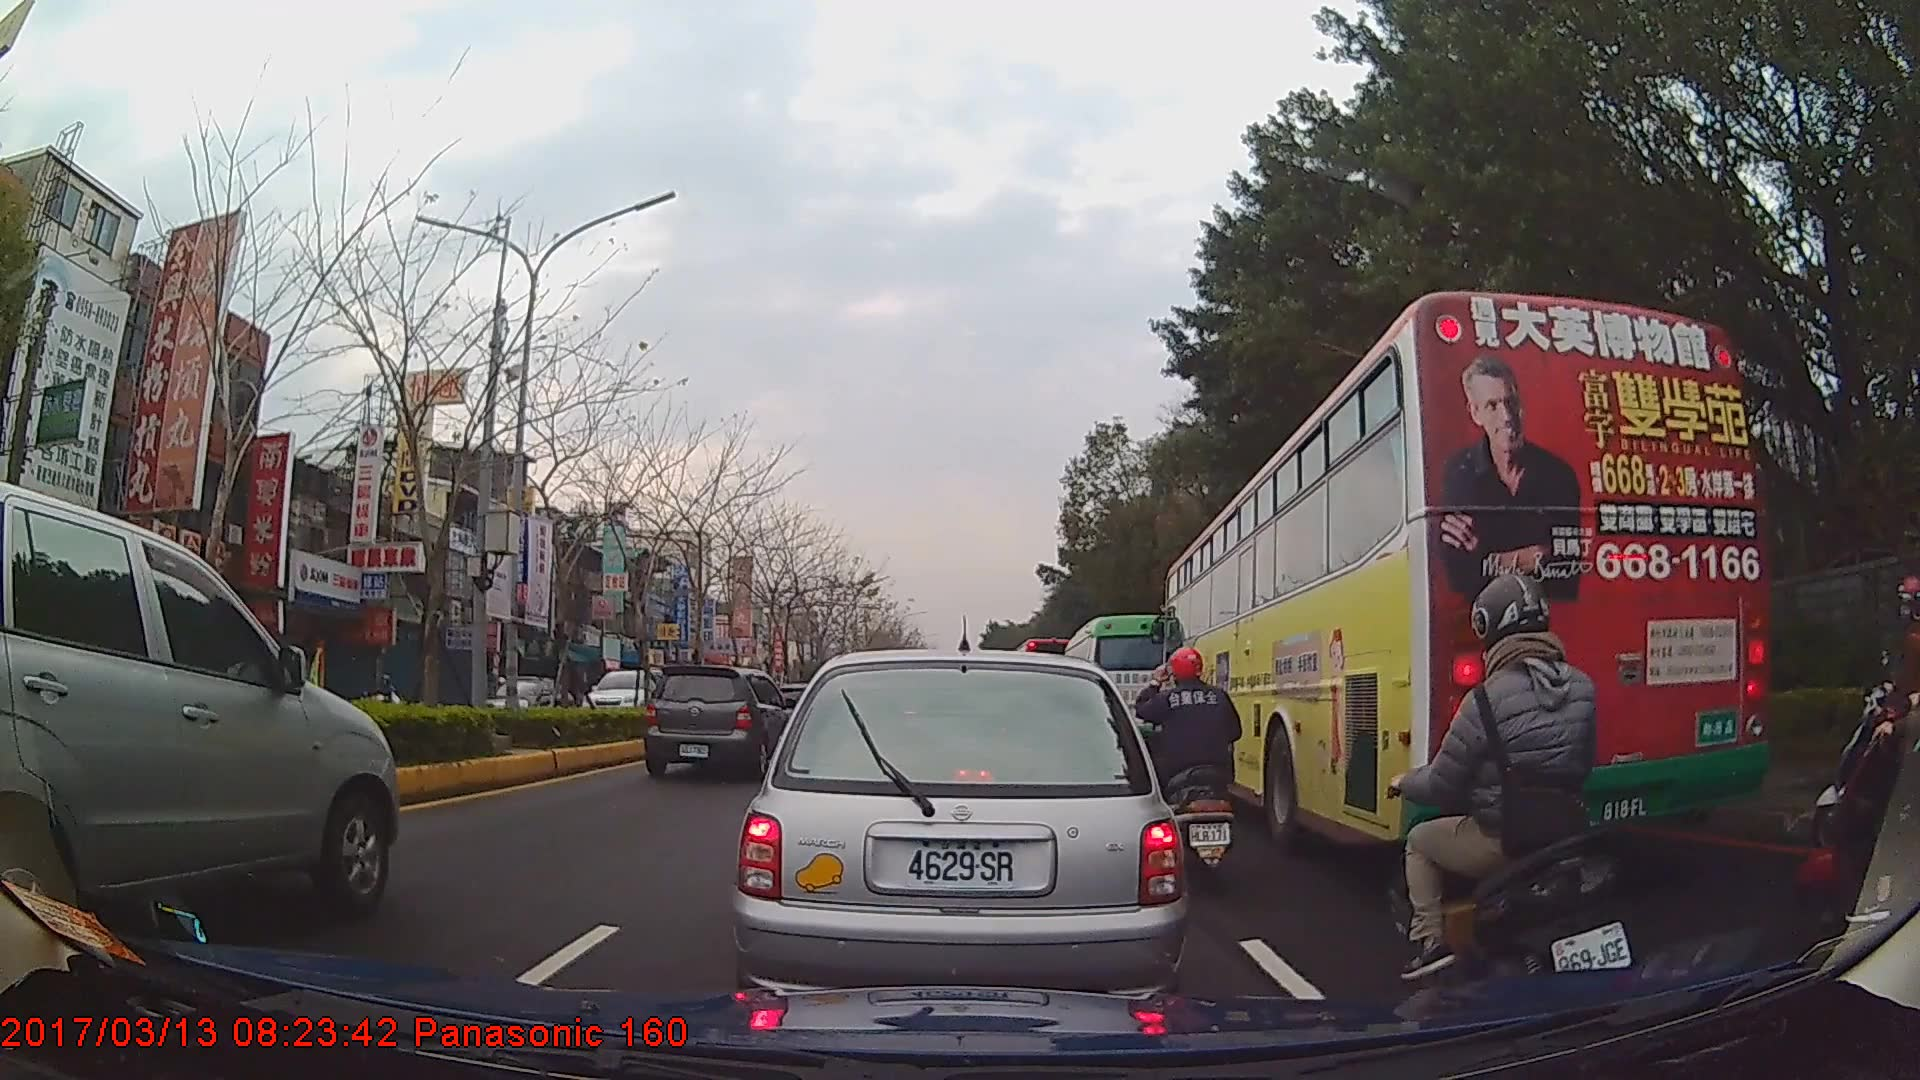rider: (1392, 569, 1627, 1028), (1817, 574, 1920, 884), (1130, 646, 1243, 886)
vehicle: (1160, 287, 1771, 866), (0, 459, 394, 966), (732, 647, 1187, 1020), (1058, 612, 1191, 765), (642, 664, 792, 779), (477, 671, 568, 734), (580, 666, 672, 727)
